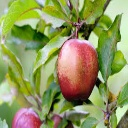apple: (12, 108, 42, 128)
